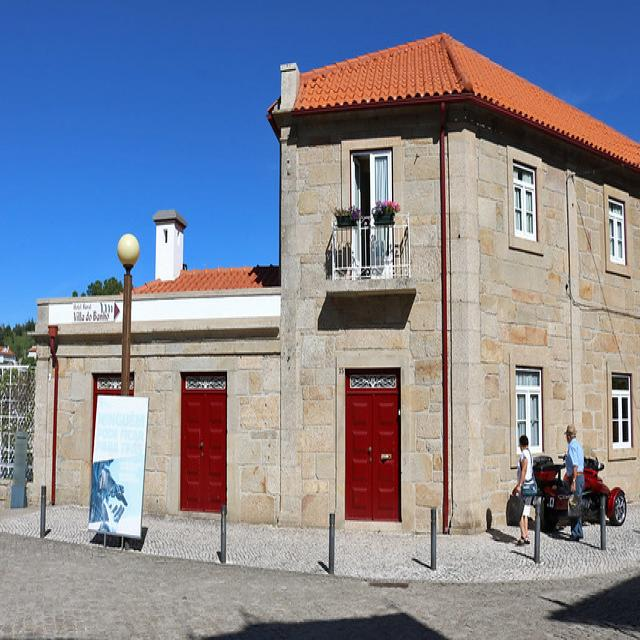Normal_building: (29, 28, 638, 540)
